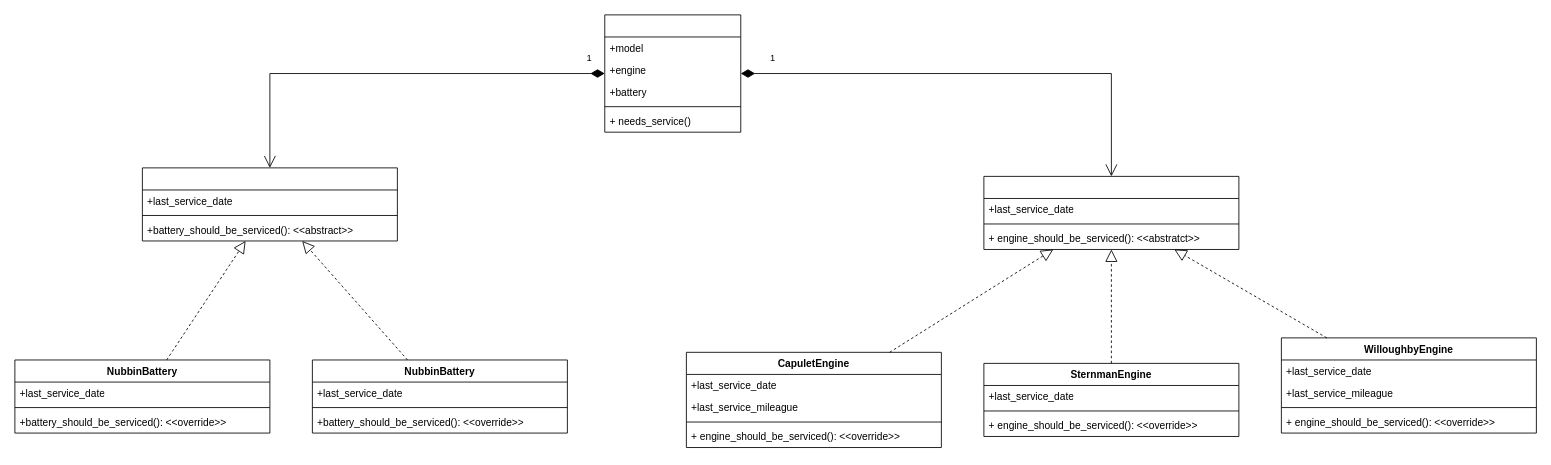
The diagram is 1551 pixels wide and 465 high, and some of its shapes have lost their labels. Each missing label, with the box of its shape:
Battery<<abstract>>: (142, 167, 397, 241)
Car: (604, 14, 741, 132)
Engine<<abstract>>: (983, 176, 1239, 249)
